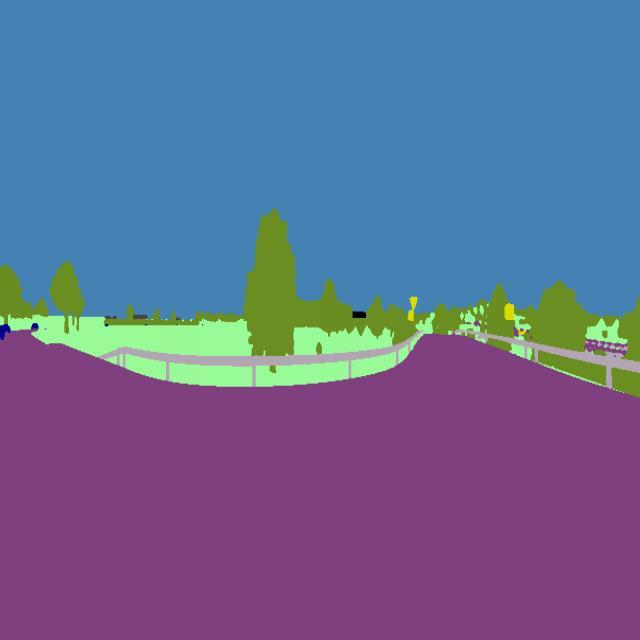safe: (0, 320, 12, 342), (30, 323, 42, 333)
